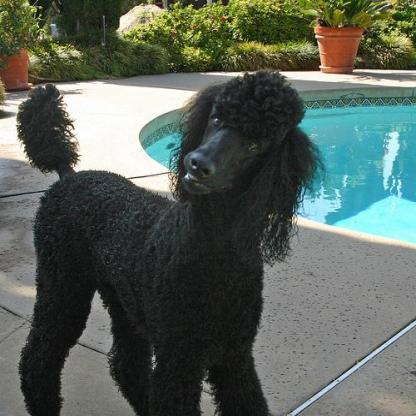standard_poodle: (14, 70, 325, 411)
